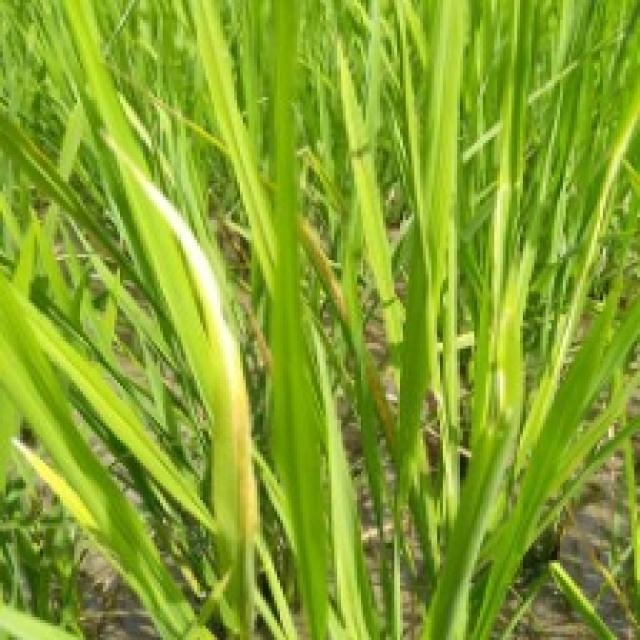Rice___Bacterial_Leaf_Blight: (95, 125, 261, 637)
